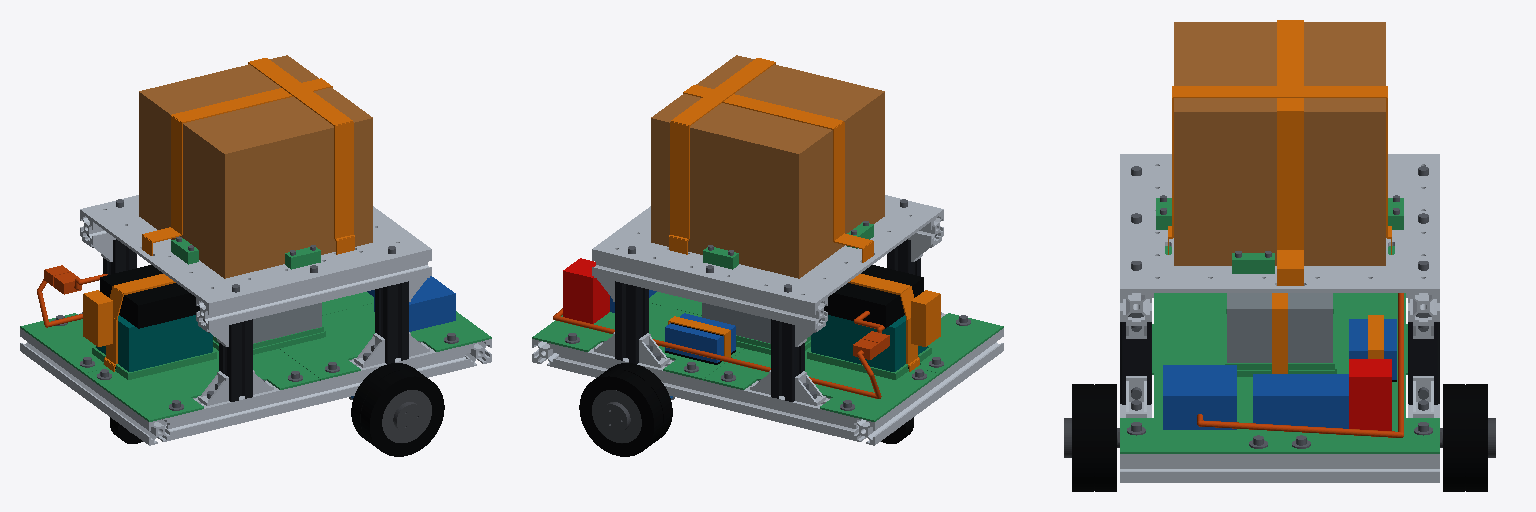
robot.urdf — amr_d65_payload_10kg:
<?xml version='1.0' encoding='utf-8'?>
<robot name="amr_d65_payload_10kg">
  <!--Generated from D6.5. SI units; +X forward, +Y left, +Z up. Inertias are estimates.-->
  <material name="aluminum">
    <color rgba="0.72 0.75 0.79 1" />
  </material>
  <material name="steel">
    <color rgba="0.38 0.4 0.43 1" />
  </material>
  <material name="pla">
    <color rgba="0.22 0.61 0.38 1" />
  </material>
  <material name="posts">
    <color rgba="0.12 0.13 0.15 1" />
  </material>
  <material name="mounts">
    <color rgba="0.15 0.43 0.69 1" />
  </material>
  <material name="motor">
    <color rgba="0.3 0.31 0.33 1" />
  </material>
  <material name="rubber">
    <color rgba="0.055 0.06 0.065 1" />
  </material>
  <material name="battery">
    <color rgba="0.02 0.4 0.4 1" />
  </material>
  <material name="computer">
    <color rgba="0.5 0.54 0.57 1" />
  </material>
  <material name="electronics">
    <color rgba="0.12 0.37 0.67 1" />
  </material>
  <material name="estop">
    <color rgba="0.85 0.08 0.06 1" />
  </material>
  <material name="belts">
    <color rgba="0.88 0.47 0.07 1" />
  </material>
  <material name="wires">
    <color rgba="0.76 0.3 0.08 1" />
  </material>
  <material name="payload">
    <color rgba="0.66 0.44 0.23 1" />
  </material>
  <link name="left_wheel_link">
    <inertial>
      <origin xyz="2.68715937167e-07 0.000842844210193 -1.43130870062e-06" rpy="0 0 0" />
      <mass value="0.45" />
      <inertia ixx="0.000337824360516" ixy="2.57511255333e-09" ixz="-2.83491628371e-11" iyy="0.000517319399072" iyz="-1.83797301139e-08" izz="0.000337817873043" />
    </inertial>
    <visual name="left_wheel_link_motor">
      <geometry>
        <mesh filename="meshes/left_wheel_link_motor.stl" scale="1 1 1" />
      </geometry>
      <material name="motor" />
    </visual>
    <visual name="left_wheel_link_rubber">
      <geometry>
        <mesh filename="meshes/left_wheel_link_rubber.stl" scale="1 1 1" />
      </geometry>
      <material name="rubber" />
    </visual>
    <collision name="left_wheel_link_rolling_contact">
      <origin xyz="0 0 0" rpy="1.57079632679 0 0" />
      <geometry>
        <cylinder radius="0.05035" length="0.043" />
      </geometry>
    </collision>
  </link>
  <link name="base_link">
    <inertial>
      <origin xyz="-0.0933472348236 -0.000822655463069 0.0822970834512" rpy="0 0 0" />
      <mass value="9.04346426469" />
      <inertia ixx="0.12359982314" ixy="0.00168122052502" ixz="0.00517363029313" iyy="0.175605513671" iyz="0.000139063340546" izz="0.222680992751" />
    </inertial>
    <visual name="base_link_motor">
      <geometry>
        <mesh filename="meshes/base_link_motor.stl" scale="1 1 1" />
      </geometry>
      <material name="motor" />
    </visual>
    <visual name="base_link_steel">
      <geometry>
        <mesh filename="meshes/base_link_steel.stl" scale="1 1 1" />
      </geometry>
      <material name="steel" />
    </visual>
    <visual name="base_link_aluminum">
      <geometry>
        <mesh filename="meshes/base_link_aluminum.stl" scale="1 1 1" />
      </geometry>
      <material name="aluminum" />
    </visual>
    <visual name="base_link_mounts">
      <geometry>
        <mesh filename="meshes/base_link_mounts.stl" scale="1 1 1" />
      </geometry>
      <material name="mounts" />
    </visual>
    <visual name="base_link_pla">
      <geometry>
        <mesh filename="meshes/base_link_pla.stl" scale="1 1 1" />
      </geometry>
      <material name="pla" />
    </visual>
    <visual name="base_link_posts">
      <geometry>
        <mesh filename="meshes/base_link_posts.stl" scale="1 1 1" />
      </geometry>
      <material name="posts" />
    </visual>
    <visual name="base_link_electronics">
      <geometry>
        <mesh filename="meshes/base_link_electronics.stl" scale="1 1 1" />
      </geometry>
      <material name="electronics" />
    </visual>
    <visual name="base_link_estop">
      <geometry>
        <mesh filename="meshes/base_link_estop.stl" scale="1 1 1" />
      </geometry>
      <material name="estop" />
    </visual>
    <visual name="base_link_computer">
      <geometry>
        <mesh filename="meshes/base_link_computer.stl" scale="1 1 1" />
      </geometry>
      <material name="computer" />
    </visual>
    <visual name="base_link_battery">
      <geometry>
        <mesh filename="meshes/base_link_battery.stl" scale="1 1 1" />
      </geometry>
      <material name="battery" />
    </visual>
    <visual name="base_link_rubber">
      <geometry>
        <mesh filename="meshes/base_link_rubber.stl" scale="1 1 1" />
      </geometry>
      <material name="rubber" />
    </visual>
    <visual name="base_link_belts">
      <geometry>
        <mesh filename="meshes/base_link_belts.stl" scale="1 1 1" />
      </geometry>
      <material name="belts" />
    </visual>
    <visual name="base_link_wires">
      <geometry>
        <mesh filename="meshes/base_link_wires.stl" scale="1 1 1" />
      </geometry>
      <material name="wires" />
    </visual>
    <visual name="base_link_belts_loaded">
      <geometry>
        <mesh filename="meshes/base_link_belts_loaded.stl" scale="1 1 1" />
      </geometry>
      <material name="belts" />
    </visual>
    <collision name="base_link_Rail400_1">
      <origin xyz="-0.09 -0.135 0.03365" rpy="0 0 0" />
      <geometry>
        <box size="0.4 0.03 0.03" />
      </geometry>
    </collision>
    <collision name="base_link_Rail400_2">
      <origin xyz="-0.09 -0.065 0.03365" rpy="0 0 0" />
      <geometry>
        <box size="0.4 0.03 0.03" />
      </geometry>
    </collision>
    <collision name="base_link_Rail400_3">
      <origin xyz="-0.09 0.065 0.03365" rpy="0 0 0" />
      <geometry>
        <box size="0.4 0.03 0.03" />
      </geometry>
    </collision>
    <collision name="base_link_Rail400_4">
      <origin xyz="-0.09 0.135 0.03365" rpy="0 0 0" />
      <geometry>
        <box size="0.4 0.03 0.03" />
      </geometry>
    </collision>
    <collision name="base_link_Cross300_1">
      <origin xyz="-0.305 0 0.03365" rpy="0 0 0" />
      <geometry>
        <box size="0.03 0.3 0.03" />
      </geometry>
    </collision>
    <collision name="base_link_Cross300_2">
      <origin xyz="0.125 0 0.03365" rpy="0 0 0" />
      <geometry>
        <box size="0.03 0.3 0.03" />
      </geometry>
    </collision>
    <collision name="base_link_CustomMotorMountL">
      <origin xyz="0 0.135 0.00165" rpy="0 0 0" />
      <geometry>
        <box size="0.09 0.03 0.034" />
      </geometry>
    </collision>
    <collision name="base_link_CustomMotorMountR">
      <origin xyz="0 -0.135 0.00165" rpy="0 0 0" />
      <geometry>
        <box size="0.09 0.03 0.034" />
      </geometry>
    </collision>
    <collision name="base_link_CasterAdapter">
      <origin xyz="-0.24 0 0.01665" rpy="0 0 0" />
      <geometry>
        <box size="0.08 0.17 0.004" />
      </geometry>
    </collision>
    <collision name="base_link_CasterTop">
      <origin xyz="-0.24 0 0.0134" rpy="0 0 0" />
      <geometry>
        <box size="0.059 0.047 0.0025" />
      </geometry>
    </collision>
    <collision name="base_link_Reserved_Protection">
      <origin xyz="0.08 -0.075 0.07915" rpy="0 0 0" />
      <geometry>
        <box size="0.07 0.07 0.035" />
      </geometry>
    </collision>
    <collision name="base_link_Reserved_ClampAndPower">
      <origin xyz="0.09 0.02 0.07915" rpy="0 0 0" />
      <geometry>
        <box size="0.05 0.09 0.035" />
      </geometry>
    </collision>
    <collision name="base_link_Reserved_EmergencyStop">
      <origin xyz="0.105 0.085 0.09165" rpy="0 0 0" />
      <geometry>
        <box size="0.04 0.04 0.06" />
      </geometry>
    </collision>
    <collision name="base_link_Reserved_SupervisorRS485">
      <origin xyz="-0.05 0.0875 0.06865" rpy="0 0 0" />
      <geometry>
        <box size="0.07 0.045 0.03" />
      </geometry>
    </collision>
    <collision name="base_link_Reserved_Computer">
      <origin xyz="-0.09 0 0.08965" rpy="0 0 0" />
      <geometry>
        <box size="0.12 0.1 0.06" />
      </geometry>
    </collision>
    <collision name="base_link_AluminumDeckD3">
      <origin xyz="-0.09 0 0.18065" rpy="0 0 0" />
      <geometry>
        <box size="0.3 0.3 0.004" />
      </geometry>
    </collision>
    <collision name="base_link_PrintedStopXN">
      <origin xyz="-0.1995 -0.025 0.19015" rpy="0 0 0" />
      <geometry>
        <box size="0.015 0.04 0.015" />
      </geometry>
    </collision>
    <collision name="base_link_PrintedStopXP">
      <origin xyz="0.0195 -0.025 0.19015" rpy="0 0 0" />
      <geometry>
        <box size="0.015 0.04 0.015" />
      </geometry>
    </collision>
    <collision name="base_link_PrintedStopYN">
      <origin xyz="-0.09 -0.1095 0.19015" rpy="0 0 0" />
      <geometry>
        <box size="0.04 0.015 0.015" />
      </geometry>
    </collision>
    <collision name="base_link_PrintedStopYP">
      <origin xyz="-0.09 0.1095 0.19015" rpy="0 0 0" />
      <geometry>
        <box size="0.04 0.015 0.015" />
      </geometry>
    </collision>
    <collision name="base_link_Upright3030_0">
      <origin xyz="-0.195 -0.135 0.09865" rpy="0 0 0" />
      <geometry>
        <box size="0.03 0.03 0.1" />
      </geometry>
    </collision>
    <collision name="base_link_Upright3030_1">
      <origin xyz="-0.195 0.135 0.09865" rpy="0 0 0" />
      <geometry>
        <box size="0.03 0.03 0.1" />
      </geometry>
    </collision>
    <collision name="base_link_Upright3030_2">
      <origin xyz="0.015 -0.135 0.09865" rpy="0 0 0" />
      <geometry>
        <box size="0.03 0.03 0.1" />
      </geometry>
    </collision>
    <collision name="base_link_Upright3030_3">
      <origin xyz="0.015 0.135 0.09865" rpy="0 0 0" />
      <geometry>
        <box size="0.03 0.03 0.1" />
      </geometry>
    </collision>
    <collision name="base_link_UpperRail3030_0">
      <origin xyz="-0.09 -0.135 0.16365" rpy="0 0 0" />
      <geometry>
        <box size="0.3 0.03 0.03" />
      </geometry>
    </collision>
    <collision name="base_link_UpperRail3030_1">
      <origin xyz="-0.09 0.135 0.16365" rpy="0 0 0" />
      <geometry>
        <box size="0.3 0.03 0.03" />
      </geometry>
    </collision>
    <collision name="base_link_seam_beam_0">
      <origin xyz="-0.09 0 0.0449" rpy="0 0 0" />
      <geometry>
        <box size="0.064 0.1 0.0025" />
      </geometry>
    </collision>
    <collision name="base_link_seam_beam_1">
      <origin xyz="-0.09 -0.02925 0.0474" rpy="0 0 0" />
      <geometry>
        <box size="0.064 0.0415 0.0025" />
      </geometry>
    </collision>
    <collision name="base_link_seam_beam_2">
      <origin xyz="-0.09 0.02925 0.0474" rpy="0 0 0" />
      <geometry>
        <box size="0.064 0.0415 0.0025" />
      </geometry>
    </collision>
    <collision name="base_link_seam_beam_3">
      <origin xyz="-0.1204 0 0.03615" rpy="0 0 0" />
      <geometry>
        <box size="0.0032 0.1 0.015" />
      </geometry>
    </collision>
    <collision name="base_link_seam_beam_4">
      <origin xyz="-0.0596 0 0.03615" rpy="0 0 0" />
      <geometry>
        <box size="0.0032 0.1 0.015" />
      </geometry>
    </collision>
    <collision name="base_link_seam_beam_5">
      <origin xyz="-0.09 -0.0484 0.03365" rpy="0 0 0" />
      <geometry>
        <box size="0.064 0.0032 0.02" />
      </geometry>
    </collision>
    <collision name="base_link_seam_beam_6">
      <origin xyz="-0.09 0.0484 0.03365" rpy="0 0 0" />
      <geometry>
        <box size="0.064 0.0032 0.02" />
      </geometry>
    </collision>
    <collision name="base_link_FloorPLA_0_0">
      <origin xyz="-0.2051 -0.0751 0.04985" rpy="0 0 0" />
      <geometry>
        <box size="0.2298 0.1498 0.0024" />
      </geometry>
    </collision>
    <collision name="base_link_FloorPLA_0_0_rib">
      <origin xyz="-0.206 -0.0235 0.04115" rpy="0 0 0" />
      <geometry>
        <box size="0.168 0.0174 0.015" />
      </geometry>
    </collision>
    <collision name="base_link_FloorPLA_0_1">
      <origin xyz="-0.2051 0.0751 0.04985" rpy="0 0 0" />
      <geometry>
        <box size="0.2298 0.1498 0.0024" />
      </geometry>
    </collision>
    <collision name="base_link_FloorPLA_0_1_rib">
      <origin xyz="-0.206 0.0235 0.04115" rpy="0 0 0" />
      <geometry>
        <box size="0.168 0.0174 0.015" />
      </geometry>
    </collision>
    <collision name="base_link_FloorPLA_1_0">
      <origin xyz="0.0251 -0.0751 0.04985" rpy="0 0 0" />
      <geometry>
        <box size="0.2298 0.1498 0.0024" />
      </geometry>
    </collision>
    <collision name="base_link_FloorPLA_1_0_rib">
      <origin xyz="0.026 -0.0235 0.04115" rpy="0 0 0" />
      <geometry>
        <box size="0.168 0.0174 0.015" />
      </geometry>
    </collision>
    <collision name="base_link_FloorPLA_1_1">
      <origin xyz="0.0251 0.0751 0.04985" rpy="0 0 0" />
      <geometry>
        <box size="0.2298 0.1498 0.0024" />
      </geometry>
    </collision>
    <collision name="base_link_FloorPLA_1_1_rib">
      <origin xyz="0.026 0.0235 0.04115" rpy="0 0 0" />
      <geometry>
        <box size="0.168 0.0174 0.015" />
      </geometry>
    </collision>
    <collision name="base_link_ComputerBarrierPLA">
      <origin xyz="-0.09 0 0.05745" rpy="0 0 0" />
      <geometry>
        <box size="0.1234 0.1034 0.0124" />
      </geometry>
    </collision>
    <collision name="base_link_BatteryBL1860B">
      <origin xyz="-0.2265 0 0.08465" rpy="0 0 0" />
      <geometry>
        <box size="0.113 0.075 0.062" />
      </geometry>
    </collision>
    <collision name="base_link_BatteryAdapter03">
      <origin xyz="-0.2265 0 0.13065" rpy="0 0 0" />
      <geometry>
        <box size="0.095 0.09 0.03" />
      </geometry>
    </collision>
    <collision name="base_link_BatteryBuckleEnvelope">
      <origin xyz="-0.302 0 0.11715" rpy="0 0 0" />
      <geometry>
        <box size="0.02 0.035 0.055" />
      </geometry>
    </collision>
  </link>
  <link name="right_wheel_link">
    <inertial>
      <origin xyz="-2.68715937167e-07 -0.000842844210193 -1.43130870061e-06" rpy="0 0 0" />
      <mass value="0.45" />
      <inertia ixx="0.000337824360516" ixy="2.57511255324e-09" ixz="2.83491629754e-11" iyy="0.000517319399072" iyz="1.83797301136e-08" izz="0.000337817873043" />
    </inertial>
    <visual name="right_wheel_link_motor">
      <geometry>
        <mesh filename="meshes/right_wheel_link_motor.stl" scale="1 1 1" />
      </geometry>
      <material name="motor" />
    </visual>
    <visual name="right_wheel_link_rubber">
      <geometry>
        <mesh filename="meshes/right_wheel_link_rubber.stl" scale="1 1 1" />
      </geometry>
      <material name="rubber" />
    </visual>
    <collision name="right_wheel_link_rolling_contact">
      <origin xyz="0 0 0" rpy="1.57079632679 0 0" />
      <geometry>
        <cylinder radius="0.05035" length="0.043" />
      </geometry>
    </collision>
  </link>
  <link name="caster_swivel_link">
    <inertial>
      <origin xyz="-0.00208368833284 3.45547710101e-19 -0.0060383207606" rpy="0 0 0" />
      <mass value="0.0887160418696" />
      <inertia ixx="2.00832544816e-05" ixy="4.85850705141e-22" ixz="-4.29660604946e-06" iyy="1.90849352283e-05" iyz="-2.53397249247e-22" izz="1.76394659271e-05" />
    </inertial>
    <visual name="caster_swivel_link_steel">
      <geometry>
        <mesh filename="meshes/caster_swivel_link_steel.stl" scale="1 1 1" />
      </geometry>
      <material name="steel" />
    </visual>
    <collision name="caster_swivel_link_swivel_race">
      <origin xyz="0 0 0" rpy="0 0 0" />
      <geometry>
        <cylinder radius="0.019" length="0.009" />
      </geometry>
    </collision>
    <collision name="caster_swivel_link_fork_0">
      <origin xyz="-0.003 -0.0125 -0.01875" rpy="0 0 0" />
      <geometry>
        <box size="0.036 0.003 0.0285" />
      </geometry>
    </collision>
    <collision name="caster_swivel_link_fork_1">
      <origin xyz="-0.003 0.0125 -0.01875" rpy="0 0 0" />
      <geometry>
        <box size="0.036 0.003 0.0285" />
      </geometry>
    </collision>
    <collision name="caster_swivel_link_fork_2">
      <origin xyz="-0.016 0 -0.033" rpy="0 0 0" />
      <geometry>
        <box size="0.006 0.032 0.006" />
      </geometry>
    </collision>
  </link>
  <link name="caster_wheel_link">
    <inertial>
      <origin xyz="2.84217094304e-17 2.29472925463e-19 0" rpy="0 0 0" />
      <mass value="0.035507350075" />
      <inertia ixx="6.57068391835e-06" ixy="2.3584551378e-23" ixz="-1.75899594661e-20" iyy="1.0774211165e-05" iyz="-2.27653595497e-22" izz="6.57068391835e-06" />
    </inertial>
    <visual name="caster_wheel_link_rubber">
      <geometry>
        <mesh filename="meshes/caster_wheel_link_rubber.stl" scale="1 1 1" />
      </geometry>
      <material name="rubber" />
    </visual>
    <visual name="caster_wheel_link_steel">
      <geometry>
        <mesh filename="meshes/caster_wheel_link_steel.stl" scale="1 1 1" />
      </geometry>
      <material name="steel" />
    </visual>
    <collision name="caster_wheel_link_rolling_contact">
      <origin xyz="0 0 0" rpy="1.57079632679 0 0" />
      <geometry>
        <cylinder radius="0.025" length="0.02" />
      </geometry>
    </collision>
  </link>
  <link name="payload_link">
    <inertial>
      <origin xyz="-5.30457172566e-19 -7.01068832617e-19 5.68434188608e-17" rpy="0 0 0" />
      <mass value="10" />
      <inertia ixx="0.0546666666667" ixy="-5.62054261308e-20" ixz="1.6452128394e-18" iyy="0.0546666666667" iyz="1.71989237667e-18" izz="0.0666666666667" />
    </inertial>
    <visual name="example_cargo">
      <geometry>
        <box size="0.2 0.2 0.16" />
      </geometry>
      <material name="payload" />
    </visual>
    <collision name="payload_link_cargo_box">
      <origin xyz="0 0 0" rpy="0 0 0" />
      <geometry>
        <box size="0.2 0.2 0.16" />
      </geometry>
    </collision>
  </link>
  <joint name="left_wheel_joint" type="continuous">
    <parent link="base_link" />
    <child link="left_wheel_link" />
    <origin xyz="0 0.1745 0" rpy="0 0 0" />
    <axis xyz="0 1 0" />
    <limit effort="0.96" velocity="12.0427718388" />
    <dynamics damping="0" friction="0" />
  </joint>
  <joint name="right_wheel_joint" type="continuous">
    <parent link="base_link" />
    <child link="right_wheel_link" />
    <origin xyz="0 -0.1745 0" rpy="0 0 0" />
    <axis xyz="0 1 0" />
    <limit effort="0.96" velocity="12.0427718388" />
    <dynamics damping="0" friction="0" />
  </joint>
  <joint name="caster_swivel_joint" type="continuous">
    <parent link="base_link" />
    <child link="caster_swivel_link" />
    <origin xyz="-0.24 0 0.00765" rpy="0 0 0" />
    <axis xyz="0 0 1" />
    <limit effort="0" velocity="30" />
    <dynamics damping="0" friction="0" />
  </joint>
  <joint name="caster_wheel_joint" type="continuous">
    <parent link="caster_swivel_link" />
    <child link="caster_wheel_link" />
    <origin xyz="-0.016 0 -0.033" rpy="0 0 0" />
    <axis xyz="0 1 0" />
    <limit effort="0" velocity="30" />
    <dynamics damping="0" friction="0" />
  </joint>
  <joint name="payload_fixed_joint" type="fixed">
    <parent link="base_link" />
    <child link="payload_link" />
    <origin xyz="-0.09 0 0.26265" rpy="0 0 0" />
  </joint>
</robot>

--- Facts derived from the render (not from the file) ---
3 views of the same robot in one strip: view 1: azimuth 30°, elevation 25°; view 2: azimuth 150°, elevation 25°; view 3: azimuth 270°, elevation 25° (orthographic).
Robot: amr_d65_payload_10kg — 6 links, 5 joints (4 continuous, 1 fixed); root link base_link; default pose: every joint at zero.
Visible links, largest first — view 1: base_link, payload_link, right_wheel_link; view 2: base_link, payload_link, left_wheel_link; view 3: base_link, payload_link, left_wheel_link, right_wheel_link.
Boxes of the visible links, x1,y1,x2,y2 form: base_link: [20, 58, 491, 445]; payload_link: [139, 55, 372, 278]; right_wheel_link: [351, 363, 444, 456]; base_link: [532, 58, 1003, 445]; payload_link: [651, 55, 884, 278]; left_wheel_link: [579, 363, 672, 456]; base_link: [1117, 20, 1442, 482]; payload_link: [1174, 22, 1385, 265]; left_wheel_link: [1443, 384, 1495, 491]; right_wheel_link: [1064, 384, 1116, 491].
Bounding box of the posed robot: 0.46 × 0.4066 × 0.396 m (x, y, z).
21 mesh visuals loaded from 21 distinct referenced files (21 binary STL).
